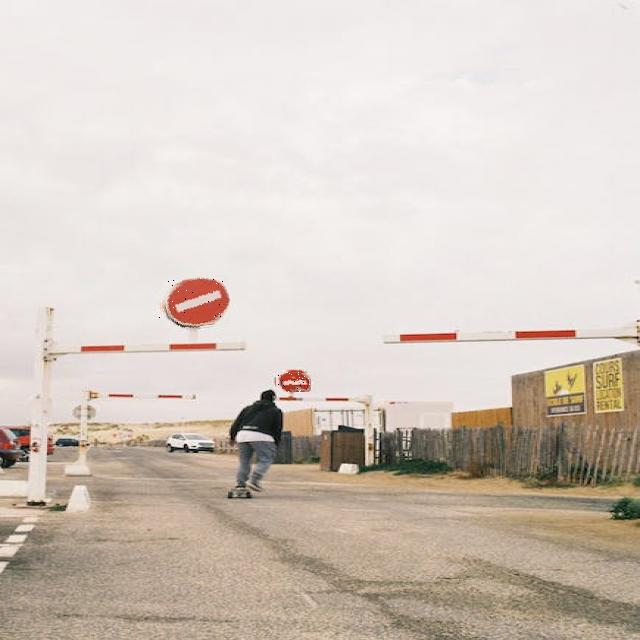no entry: (159, 277, 230, 332), (276, 370, 311, 392)
